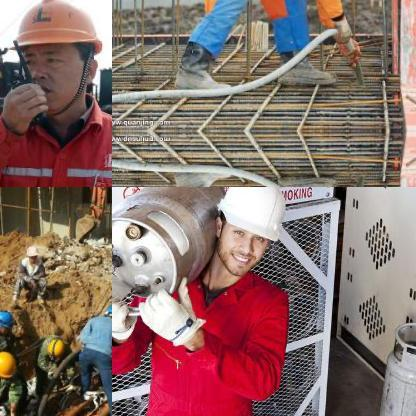Helmet: (1, 0, 111, 114), (217, 187, 286, 274), (0, 348, 18, 381), (45, 338, 65, 360), (0, 307, 15, 335), (24, 243, 38, 265), (101, 304, 111, 324)
